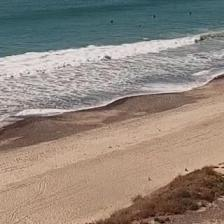surfer: (153, 15, 156, 18), (189, 12, 191, 15), (111, 20, 113, 22), (140, 25, 142, 27)
